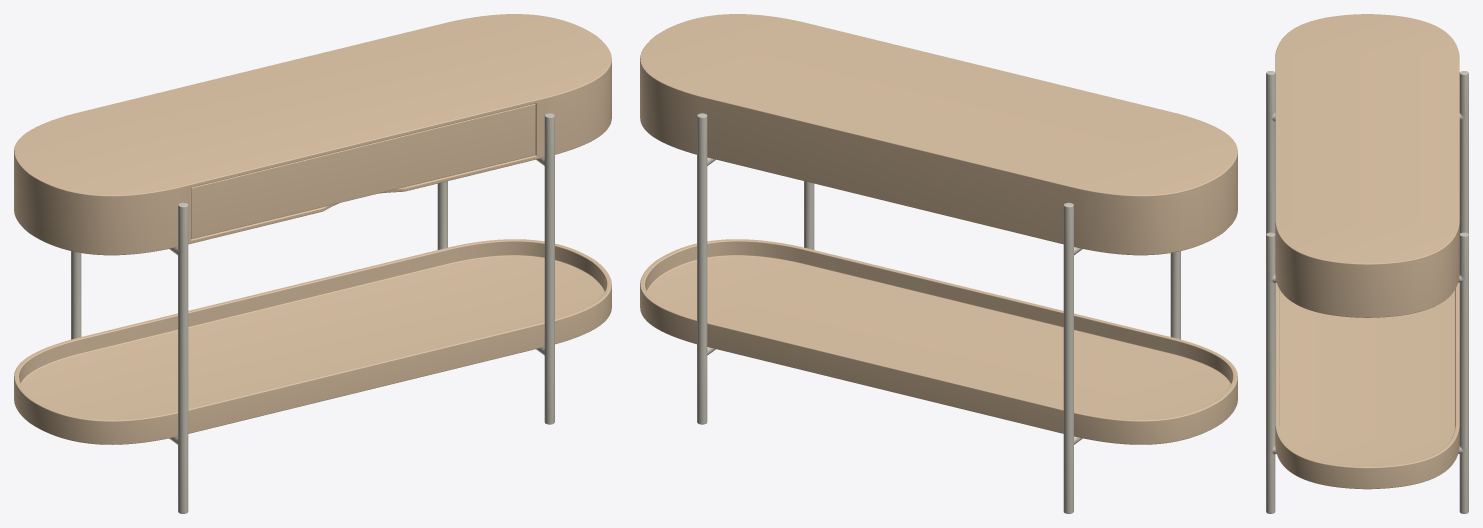
The model's file is aparador-sagrantino.glb.
The picture shows the model from 3 angles, left to right: view 1: azimuth 30°, elevation 25°; view 2: azimuth 150°, elevation 25°; view 3: azimuth 270°, elevation 25°; orthographic projection. The views are drawn at different scales.
Size of the model in its own units: 1.4 by 0.7619 by 0.4788.
